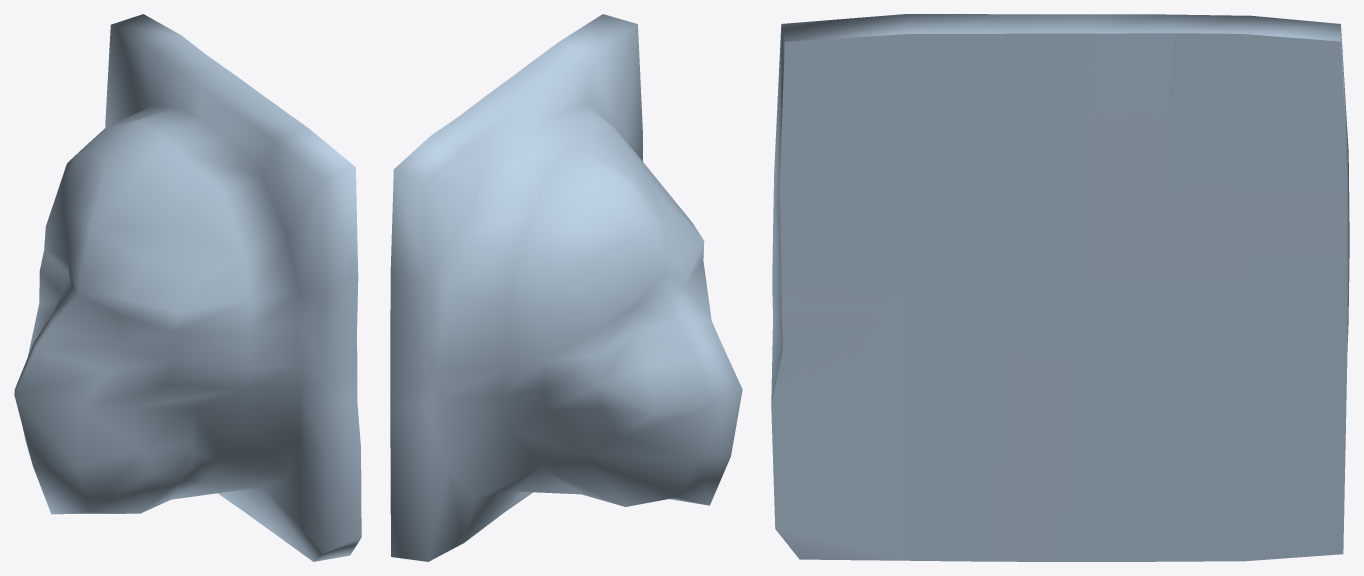
File: Statue_08_Lod0.fbx
The picture shows the model from 3 angles, left to right: view 1: azimuth 30°, elevation 25°; view 2: azimuth 150°, elevation 25°; view 3: azimuth 270°, elevation 25°; orthographic projection. The views are drawn at different scales.
Parts seen in each view (by area): view 1: Statue_08_Lod0; view 2: Statue_08_Lod0; view 3: Statue_08_Lod0.
Part boxes in pixels (x1,y1,x2,y2): Statue_08_Lod0: (14, 14, 361, 561); Statue_08_Lod0: (390, 14, 742, 561); Statue_08_Lod0: (771, 14, 1349, 561).
Size of the model in its own units: 41.44 by 65.16 by 64.8.
